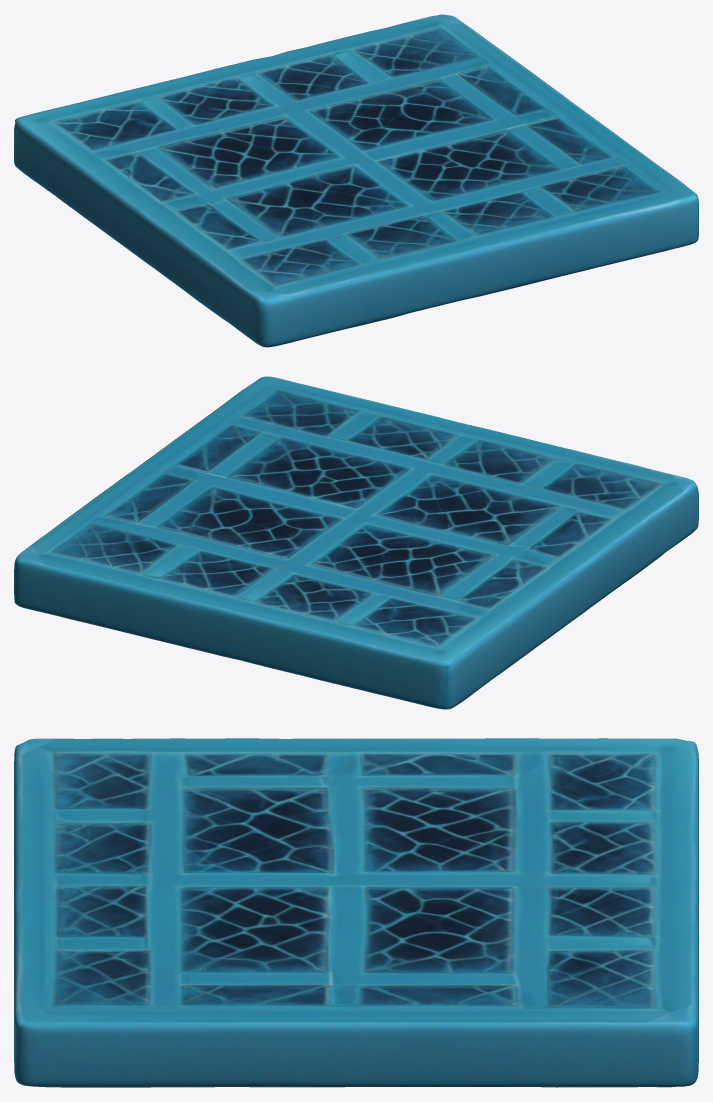
Rendered from An_L_shaped_corner_wa_0926195751_texture.fbx.
3 views of the same model, one above another, from view 1: azimuth 30°, elevation 25°; view 2: azimuth 150°, elevation 25°; view 3: azimuth 270°, elevation 25° (orthographic). The views are drawn at different scales.
Parts seen in each view (by area): view 1: Mesh0; view 2: Mesh0; view 3: Mesh0.
Part boxes in pixels (x1,y1,x2,y2): Mesh0: (14,14,698,347); Mesh0: (14,376,698,709); Mesh0: (14,738,698,1087).
Bounding box in the file's own units: 191 × 20.05 × 191.
1 material, 1 textured.
